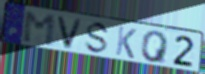2: (172, 35, 197, 70)
K: (114, 25, 138, 60)
M: (22, 11, 57, 49)
Q: (141, 31, 171, 66)
S: (83, 21, 112, 55)
V: (55, 14, 84, 52)
